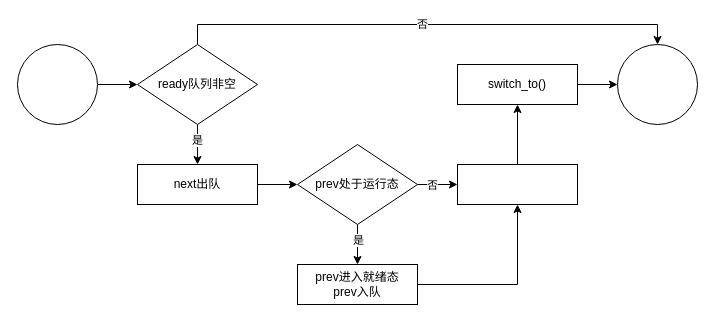
Image size: 715x322. Some labels were removed from this diagram. The centre of each missing label's shape, as x and y in pixels:
"next进入运行态 current_running=next" belongs at point (517, 184).
"前一进程" belongs at point (57, 84).
"后一进程" belongs at point (657, 84).
